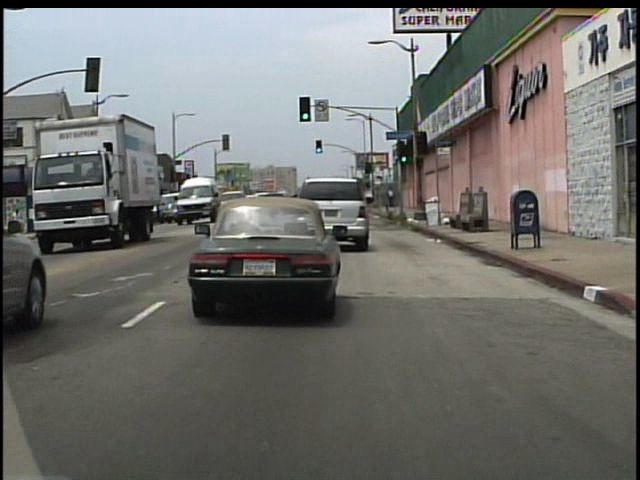person: (14, 208, 25, 239), (389, 185, 398, 208)
